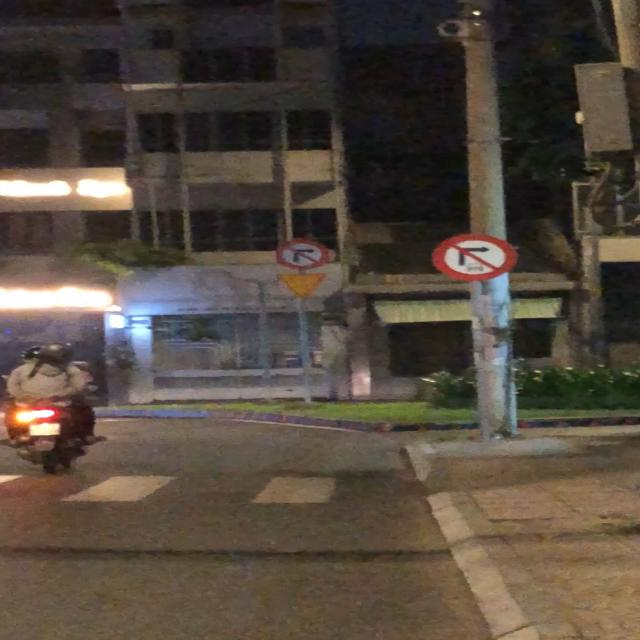Bien bao cam re phai: (275, 239, 333, 270)
Bien bao cam xe o to re phai: (431, 230, 522, 282)
Bien bao giao nhau voi duong uu tien: (272, 271, 332, 303)
